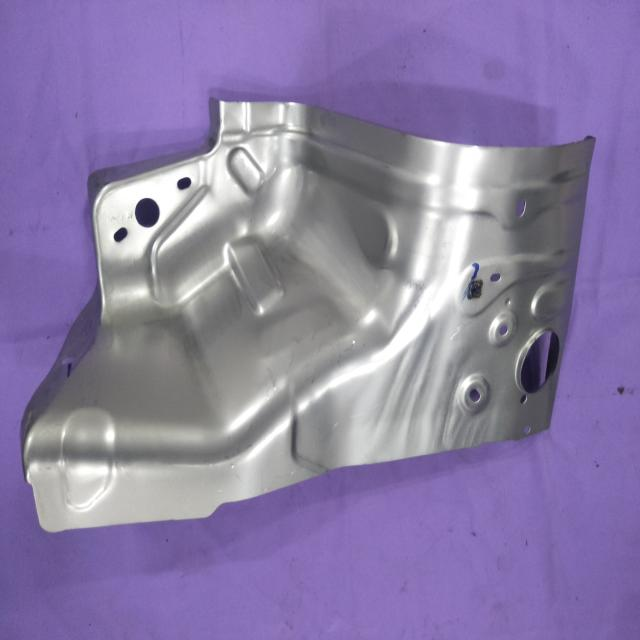Healthy: (21, 92, 596, 532)
